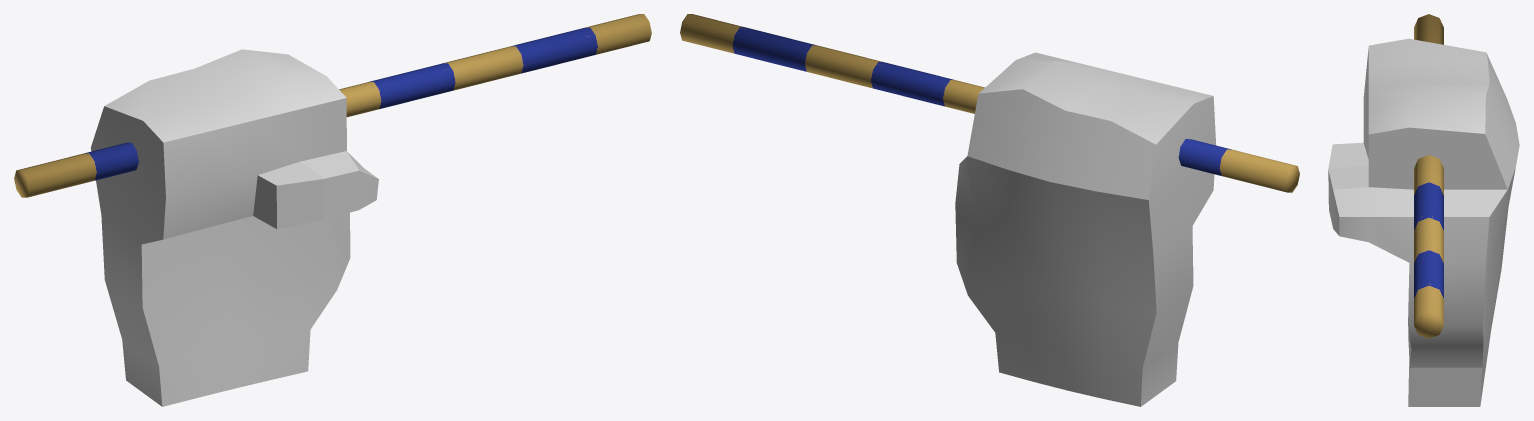
The model's file is mano_dx.fbx.
3 views of the same model, side by side, from view 1: azimuth 30°, elevation 25°; view 2: azimuth 150°, elevation 25°; view 3: azimuth 270°, elevation 25° (orthographic). The views are drawn at different scales.
Parts seen in each view (by area): view 1: Mano_dx, Bacchetta; view 2: Mano_dx, Bacchetta; view 3: Mano_dx, Bacchetta.
Boxes of the visible parts, box(x1,y1,x2,y2) form: Mano_dx: box(91, 49, 378, 406); Bacchetta: box(14, 14, 651, 197); Mano_dx: box(955, 52, 1216, 406); Bacchetta: box(680, 14, 1299, 192); Mano_dx: box(1328, 38, 1519, 406); Bacchetta: box(1414, 14, 1443, 338).
Bounding box in the file's own units: 391 × 180 × 105.
Materials: 2 (1 with a texture image).
